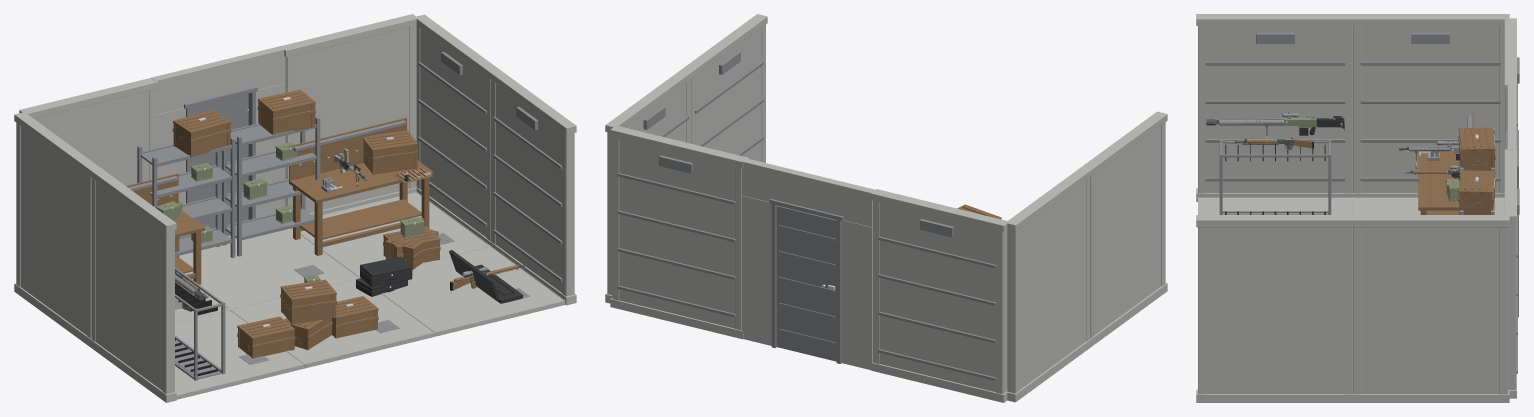
File: mega-weapon-pack-range-store-e2df571e__33461.glb
The picture shows the model from 3 angles, left to right: view 1: azimuth 30°, elevation 25°; view 2: azimuth 150°, elevation 25°; view 3: azimuth 270°, elevation 25°; orthographic projection. The views are drawn at different scales.
Parts seen in each view (by area): view 1: 011-armoury-wall-panel/0, 009-armoury-wall-panel/0, 012-armoury-wall-panel/0, 008-armoury-wall-panel/0, 010-armoury-wall-panel/0, 019-gunsmith-bench/0, 006-armoury-wall-panel/0, 005-armoury-floor-tile/0, 007-armoury-door/0, 002-armoury-floor-tile/0, 038-armoury-shelf-unit/0, 003-armoury-floor-tile/0 (+29 smaller); view 2: 006-armoury-wall-panel/0, 008-armoury-wall-panel/0, 009-armoury-wall-panel/0, 011-armoury-wall-panel/0, 007-armoury-door/0, 007-armoury-door/door-main/alloyDark, 012-armoury-wall-panel/0, 010-armoury-wall-panel/0, 008-armoury-wall-panel/1, 006-armoury-wall-panel/1, 007-armoury-door/1, 012-armoury-wall-panel/1; view 3: 010-armoury-wall-panel/0, 012-armoury-wall-panel/0, 011-armoury-wall-panel/0, 009-armoury-wall-panel/0, 011-armoury-wall-panel/1, 008-armoury-wall-panel/0, 009-armoury-wall-panel/1, 001-armoury-floor-tile/0, 013-gunsmith-bench/0, 025-floor-rifle-rack/0, 000-armoury-floor-tile/0, 006-armoury-wall-panel/0 (+10 smaller).
Boxes of the visible parts, x1=… form: 011-armoury-wall-panel/0: x1=89, y1=167, x2=176, y2=402; 009-armoury-wall-panel/0: x1=14, y1=112, x2=100, y2=347; 012-armoury-wall-panel/0: x1=490, y1=70, x2=576, y2=305; 008-armoury-wall-panel/0: x1=282, y1=14, x2=417, y2=216; 010-armoury-wall-panel/0: x1=415, y1=14, x2=500, y2=245; 019-gunsmith-bench/0: x1=289, y1=118, x2=433, y2=255; 006-armoury-wall-panel/0: x1=19, y1=78, x2=157, y2=185; 005-armoury-floor-tile/0: x1=383, y1=245, x2=565, y2=336; 007-armoury-door/0: x1=151, y1=46, x2=285, y2=217; 002-armoury-floor-tile/0: x1=179, y1=228, x2=359, y2=308; 038-armoury-shelf-unit/0: x1=222, y1=117, x2=320, y2=256; 003-armoury-floor-tile/0: x1=231, y1=277, x2=435, y2=368; 006-armoury-wall-panel/0: x1=871, y1=189, x2=1008, y2=402; 008-armoury-wall-panel/0: x1=610, y1=125, x2=748, y2=339; 009-armoury-wall-panel/0: x1=1007, y1=166, x2=1092, y2=402; 011-armoury-wall-panel/0: x1=1081, y1=111, x2=1167, y2=345; 007-armoury-door/0: x1=742, y1=158, x2=876, y2=369; 007-armoury-door/door-main/alloyDark: x1=776, y1=205, x2=836, y2=361; 012-armoury-wall-panel/0: x1=681, y1=14, x2=767, y2=162; 010-armoury-wall-panel/0: x1=605, y1=70, x2=692, y2=303; 008-armoury-wall-panel/1: x1=617, y1=155, x2=735, y2=317; 006-armoury-wall-panel/1: x1=878, y1=219, x2=996, y2=380; 007-armoury-door/1: x1=769, y1=199, x2=843, y2=363; 012-armoury-wall-panel/1: x1=695, y1=51, x2=763, y2=155; 010-armoury-wall-panel/0: x1=1351, y1=215, x2=1509, y2=402; 012-armoury-wall-panel/0: x1=1196, y1=215, x2=1354, y2=402; 011-armoury-wall-panel/0: x1=1196, y1=14, x2=1354, y2=201; 009-armoury-wall-panel/0: x1=1351, y1=14, x2=1509, y2=197; 011-armoury-wall-panel/1: x1=1205, y1=32, x2=1345, y2=181; 008-armoury-wall-panel/0: x1=1504, y1=149, x2=1516, y2=398; 009-armoury-wall-panel/1: x1=1360, y1=32, x2=1500, y2=181; 001-armoury-floor-tile/0: x1=1198, y1=197, x2=1352, y2=214; 013-gunsmith-bench/0: x1=1418, y1=113, x2=1473, y2=214; 025-floor-rifle-rack/0: x1=1219, y1=139, x2=1331, y2=214; 000-armoury-floor-tile/0: x1=1353, y1=197, x2=1504, y2=214; 006-armoury-wall-panel/0: x1=1504, y1=18, x2=1516, y2=129.
Size of the model in its own units: 6.29 by 2.6 by 4.17.
